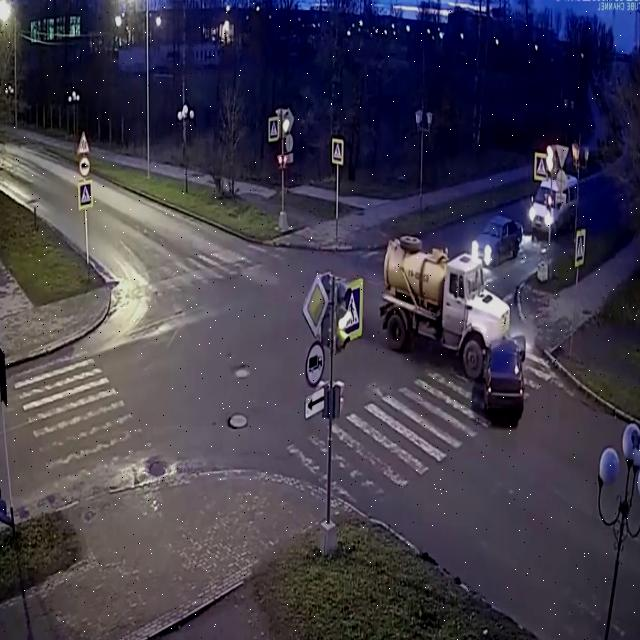accident: (375, 226, 539, 442)
